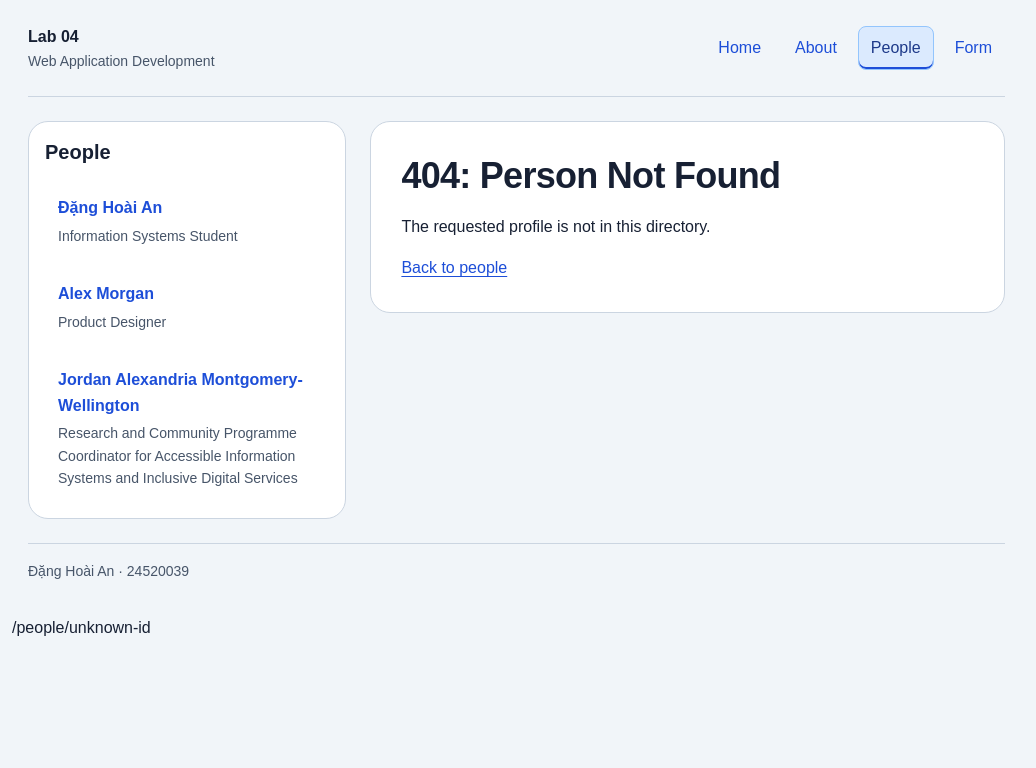
Scenario: Exercise 1.2.2 master-detail contract › shows a missing-person state and returns to the directory
The width and height of the screenshot is (1036, 768).
Expected: the heading "404: Person Not Found" is shown, [401,155,780,196]
Click the link "Back to people" at (454, 268), box [401,259,507,276]
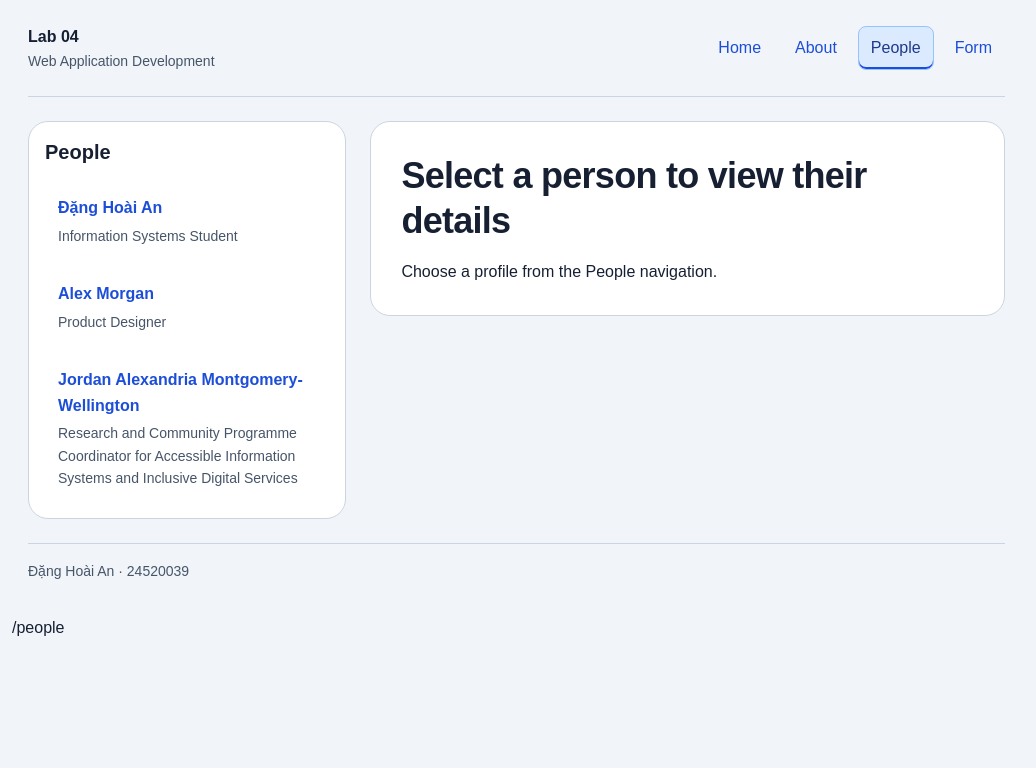
Expected: the text with test id "current-path" reads "/people", [12,619,64,636]
Expected: the heading "Select a person to view their details" is shown, [401,155,867,241]
